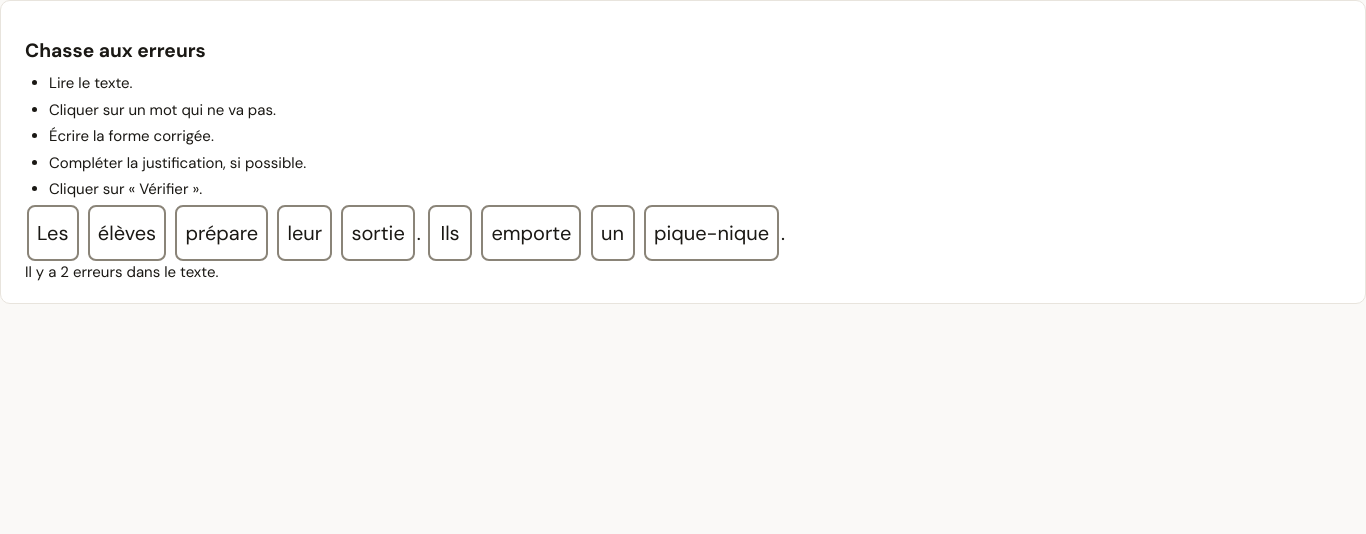
Test case: Chasse : réponses qualitatives › trouvé : message simple, nombre d’erreurs restantes, mot marqué trouvé
Click the button "prépare" at (222, 233), box 175,205 -> 268,261
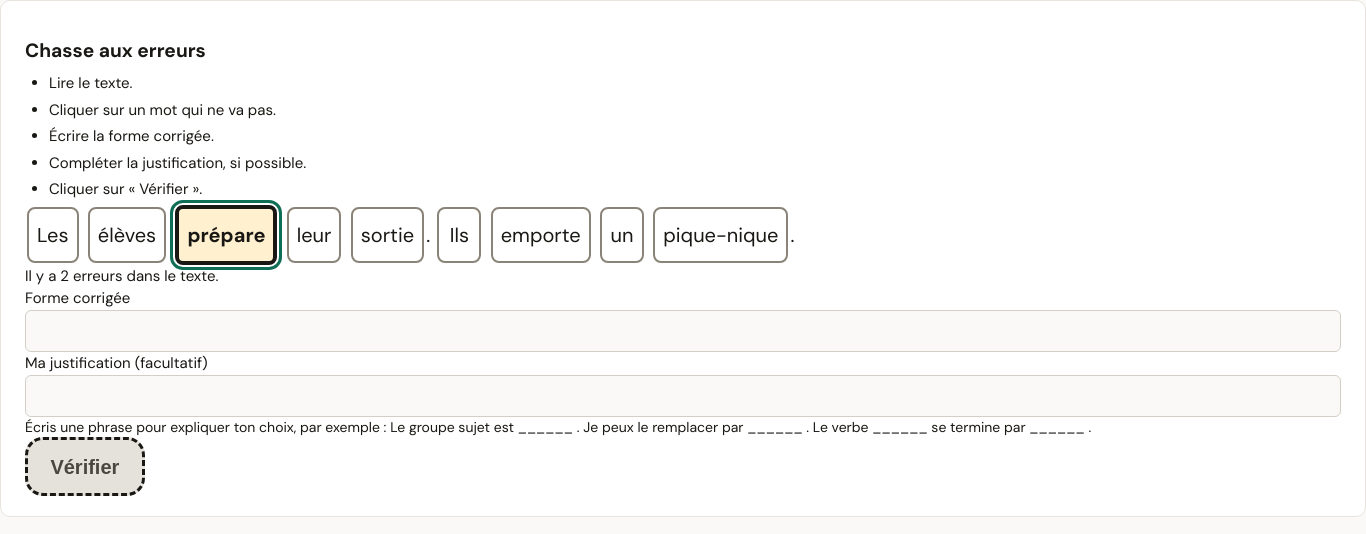
Type "préparent" into the field labelled "Forme corrigée" at (683, 331), box 25,310 -> 1341,352
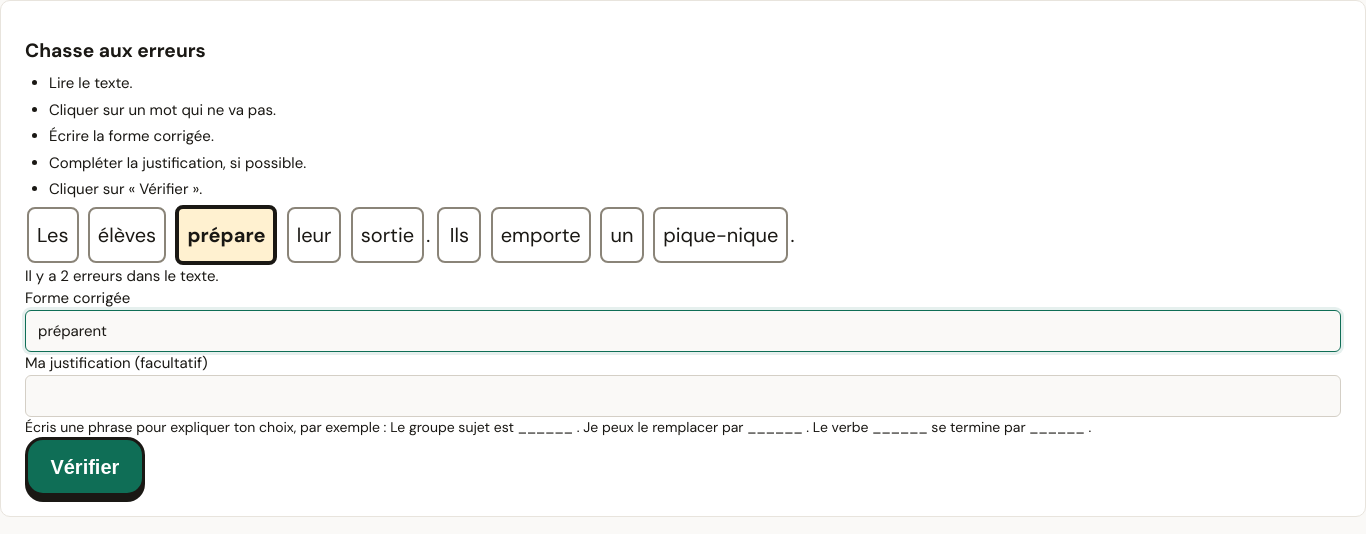
Type "Le sujet est élèves." into the field labelled "Ma justification (facultatif)" at (683, 396), box 25,375 -> 1341,417
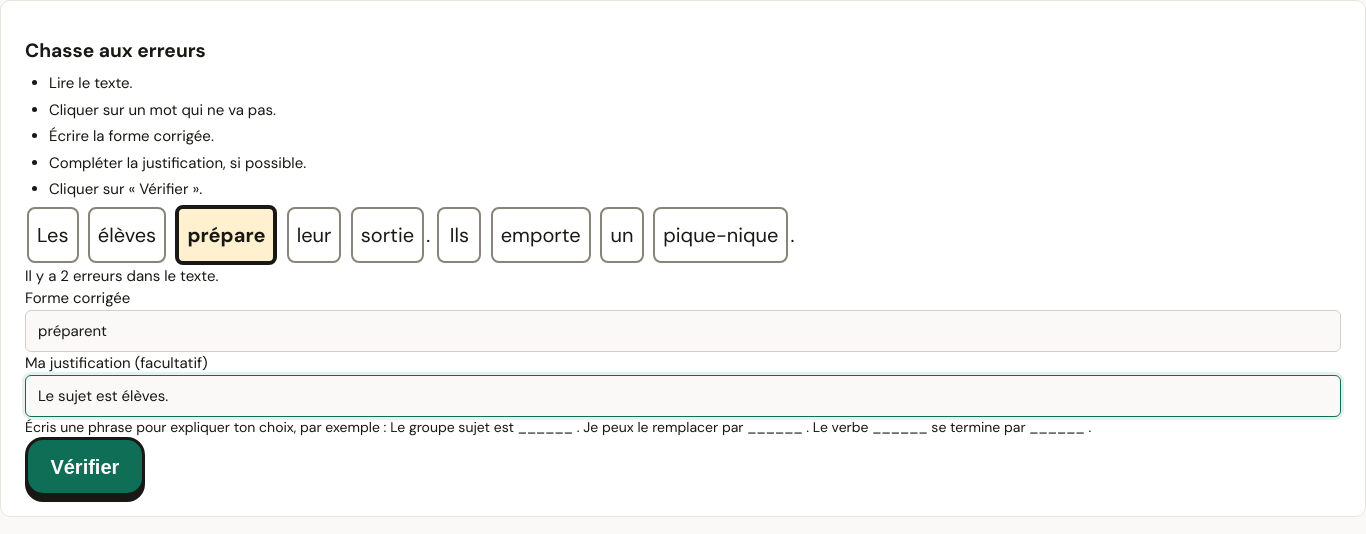
Click the button "Vérifier" at (85, 467), box 25,437 -> 145,496
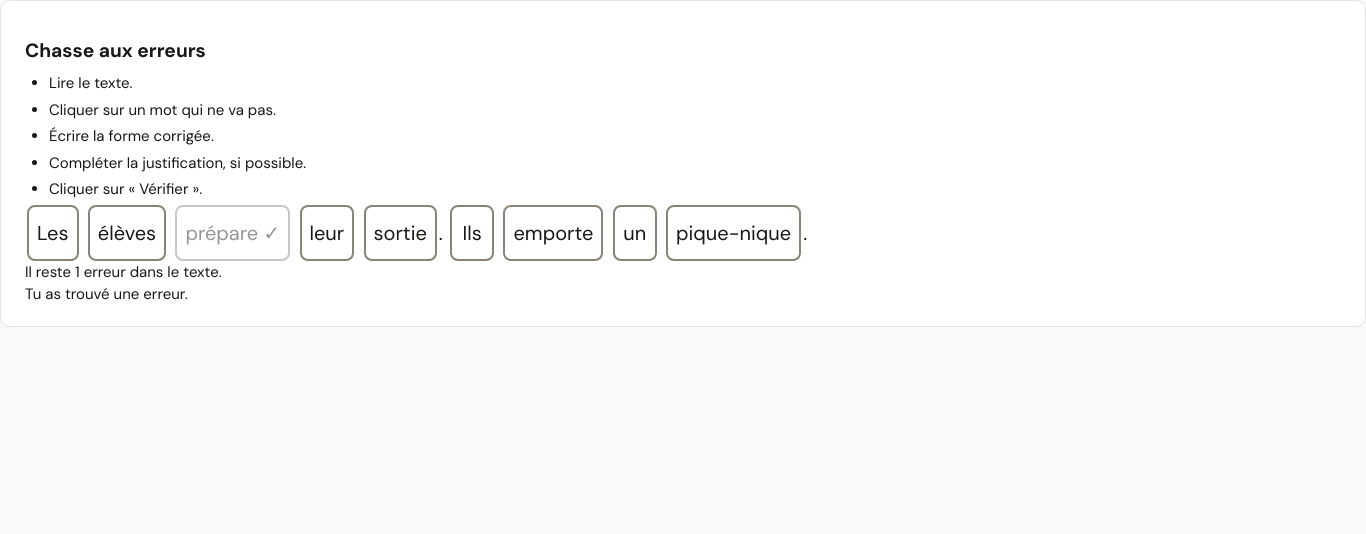
Now the message reads "Tu as trouvé une erreur.", box 25,284 -> 188,304
Now the text "Il reste 1 erreur dans le texte." is shown, box 25,262 -> 222,282
Now the button "prépare ✓" is disabled, box 175,205 -> 290,261
